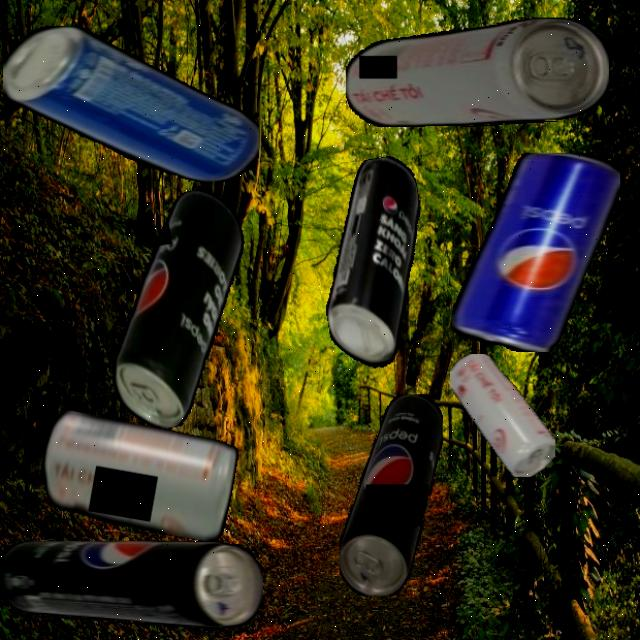debris: (84, 184, 274, 436), (2, 26, 259, 182), (451, 153, 620, 352), (302, 153, 447, 380), (345, 18, 609, 127), (35, 408, 241, 544), (0, 541, 263, 629), (338, 393, 443, 596), (450, 353, 555, 477)
